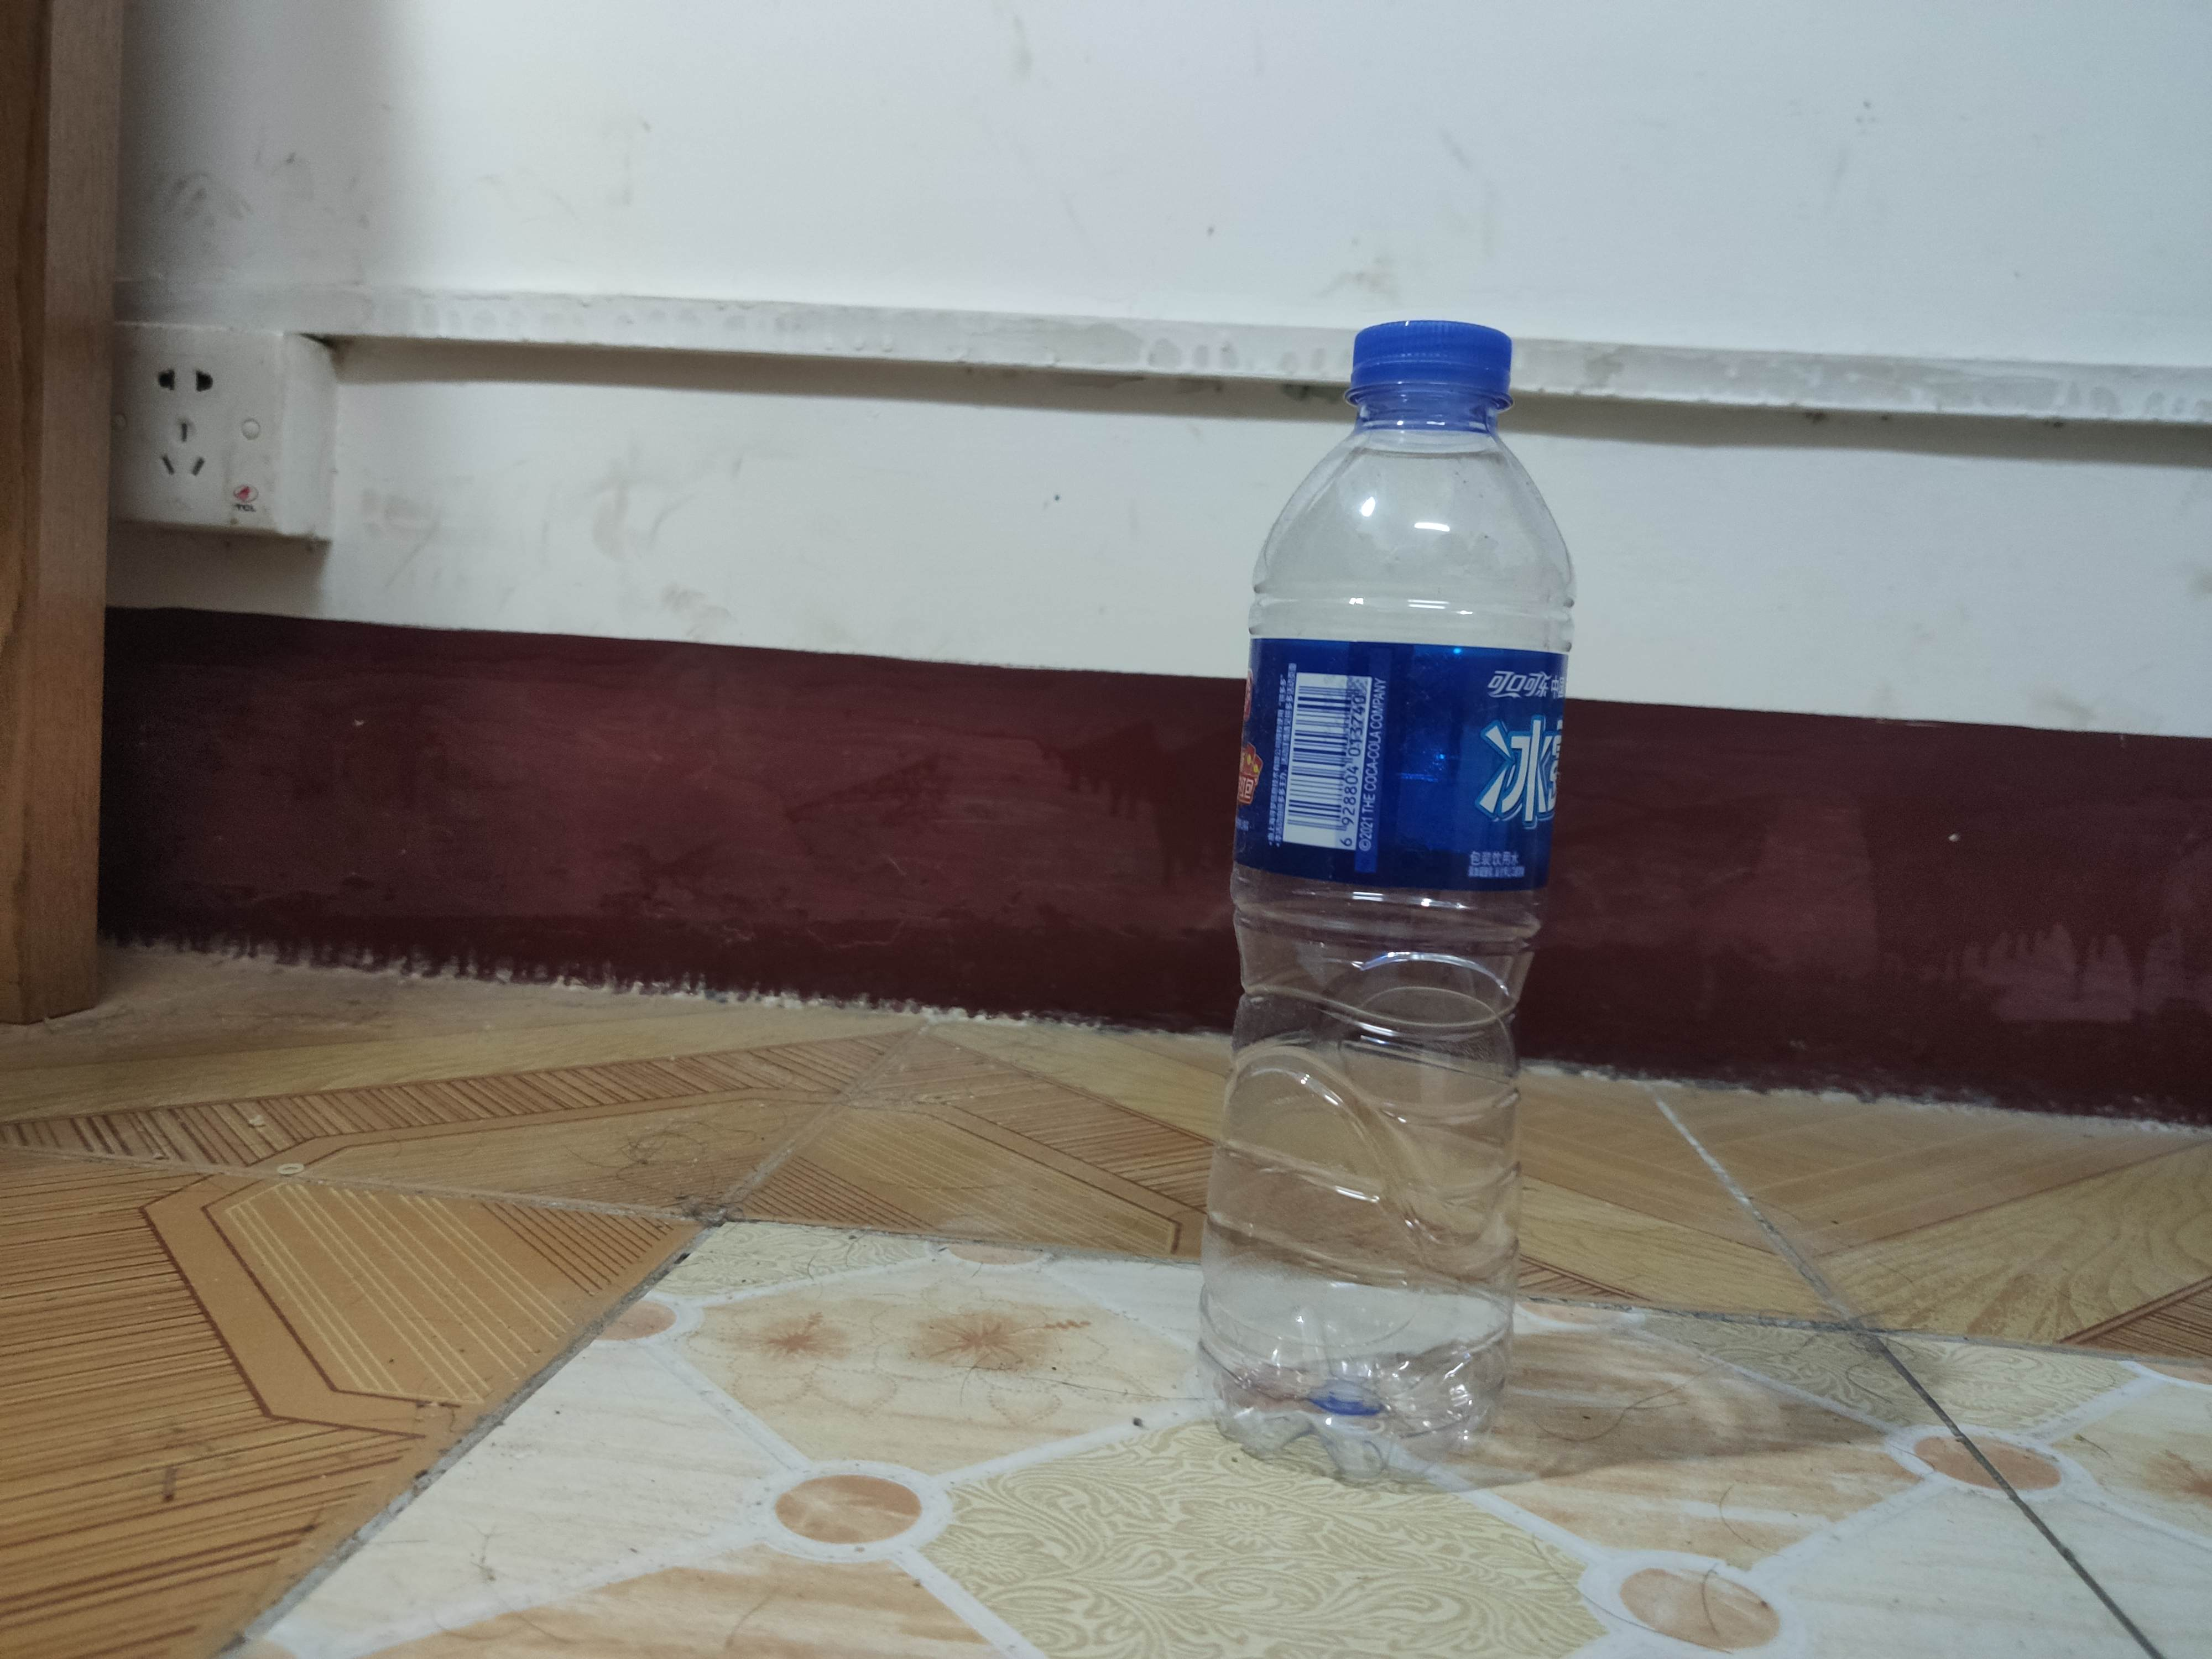Plastic Bottle: (1193, 317, 1583, 1495)
